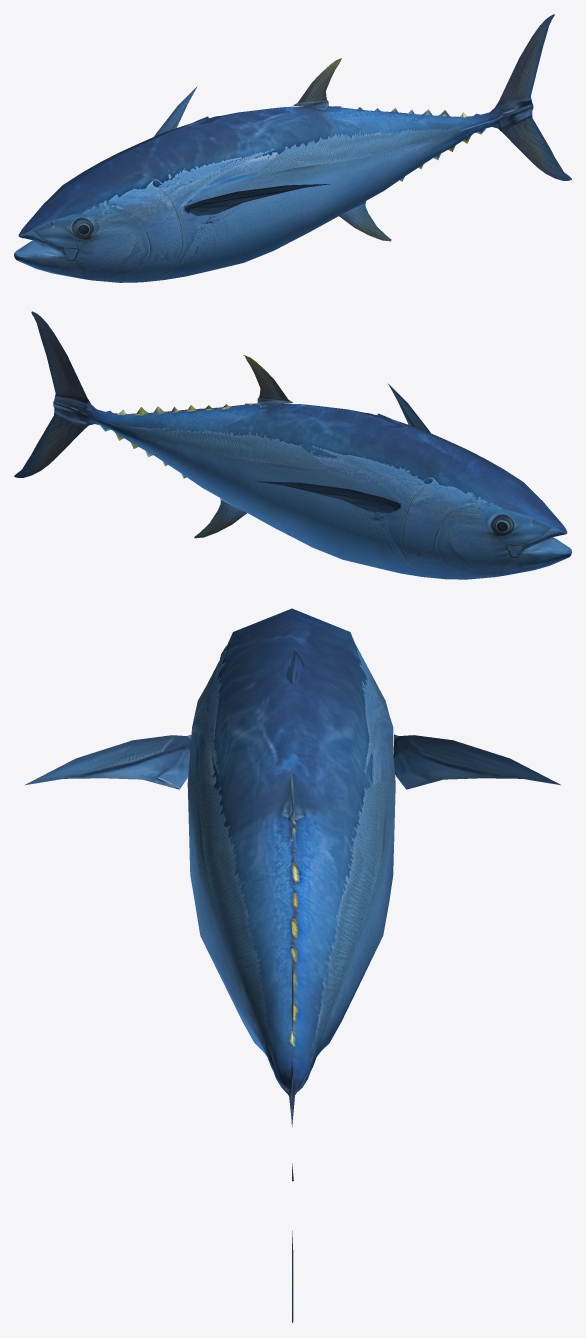
The model's file is tuna.glb.
3 renders of one model, top to bottom at view 1: azimuth 30°, elevation 25°; view 2: azimuth 150°, elevation 25°; view 3: azimuth 270°, elevation 25°, orthographic. The views are drawn at different scales.
Visible parts, largest first — view 1: tripo_node_eea5480b-2611-4b98-aeb8-5d87ce6b5363; view 2: tripo_node_eea5480b-2611-4b98-aeb8-5d87ce6b5363; view 3: tripo_node_eea5480b-2611-4b98-aeb8-5d87ce6b5363.
Boxes of the visible parts, left/top/right/bottom form: tripo_node_eea5480b-2611-4b98-aeb8-5d87ce6b5363: left=14, top=14, right=571, bottom=282; tripo_node_eea5480b-2611-4b98-aeb8-5d87ce6b5363: left=14, top=311, right=571, bottom=579; tripo_node_eea5480b-2611-4b98-aeb8-5d87ce6b5363: left=24, top=608, right=561, bottom=1322.
Bounding box in the file's own units: 0.9995 × 0.3345 × 0.4185.
Materials: 1 (1 with a texture image).
